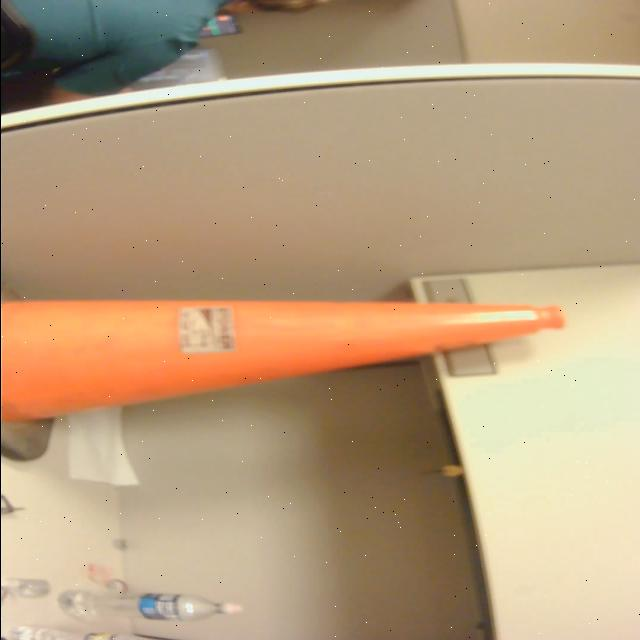traffic cone: (1, 264, 574, 463)
